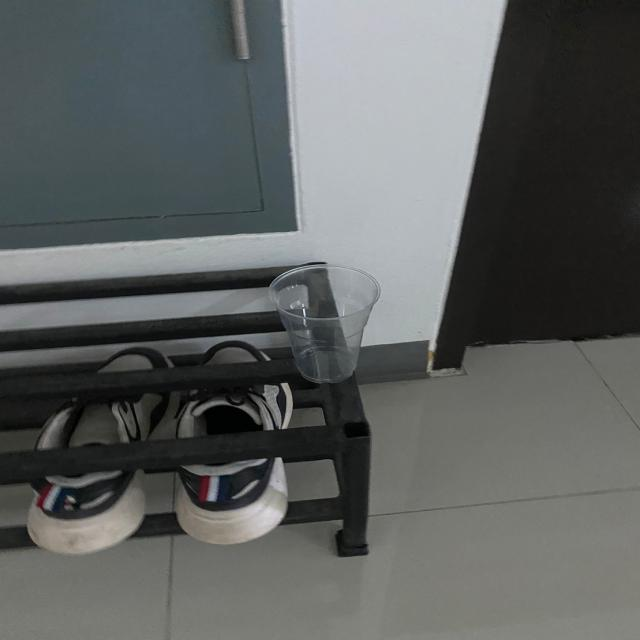glass: (264, 262, 387, 390)
